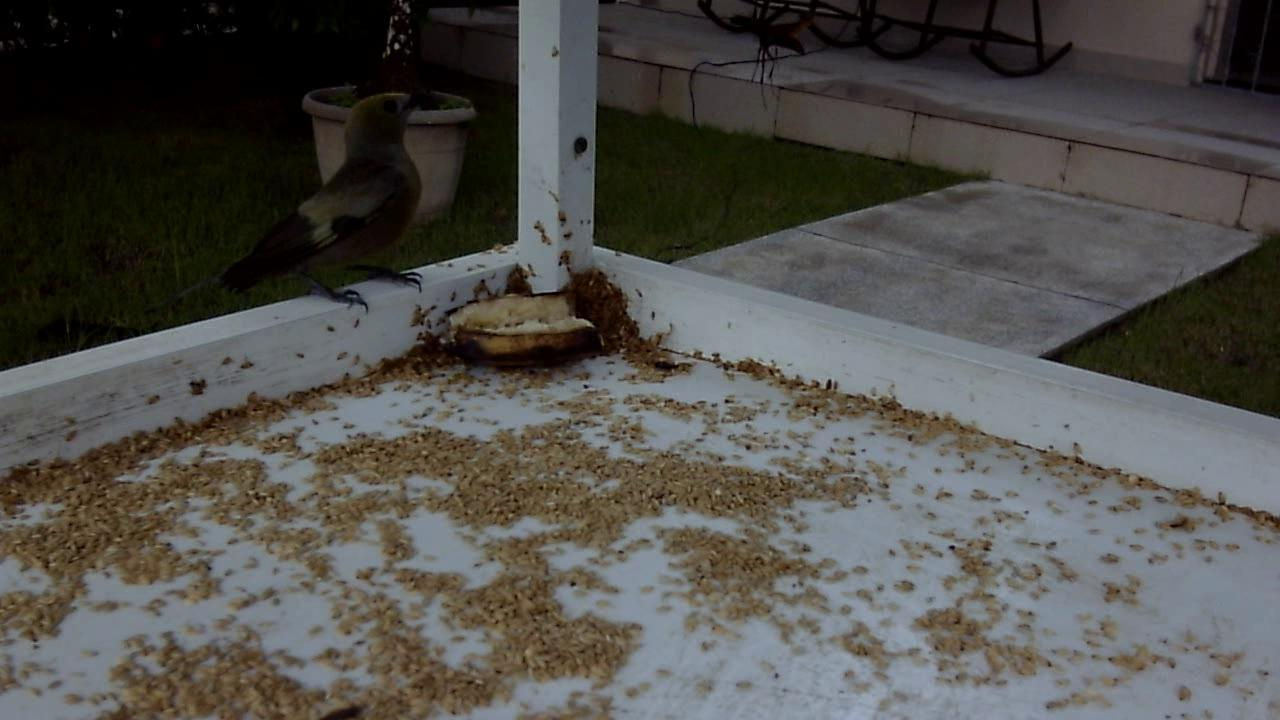sanhaco_do_coqueiro: (208, 94, 438, 327)
